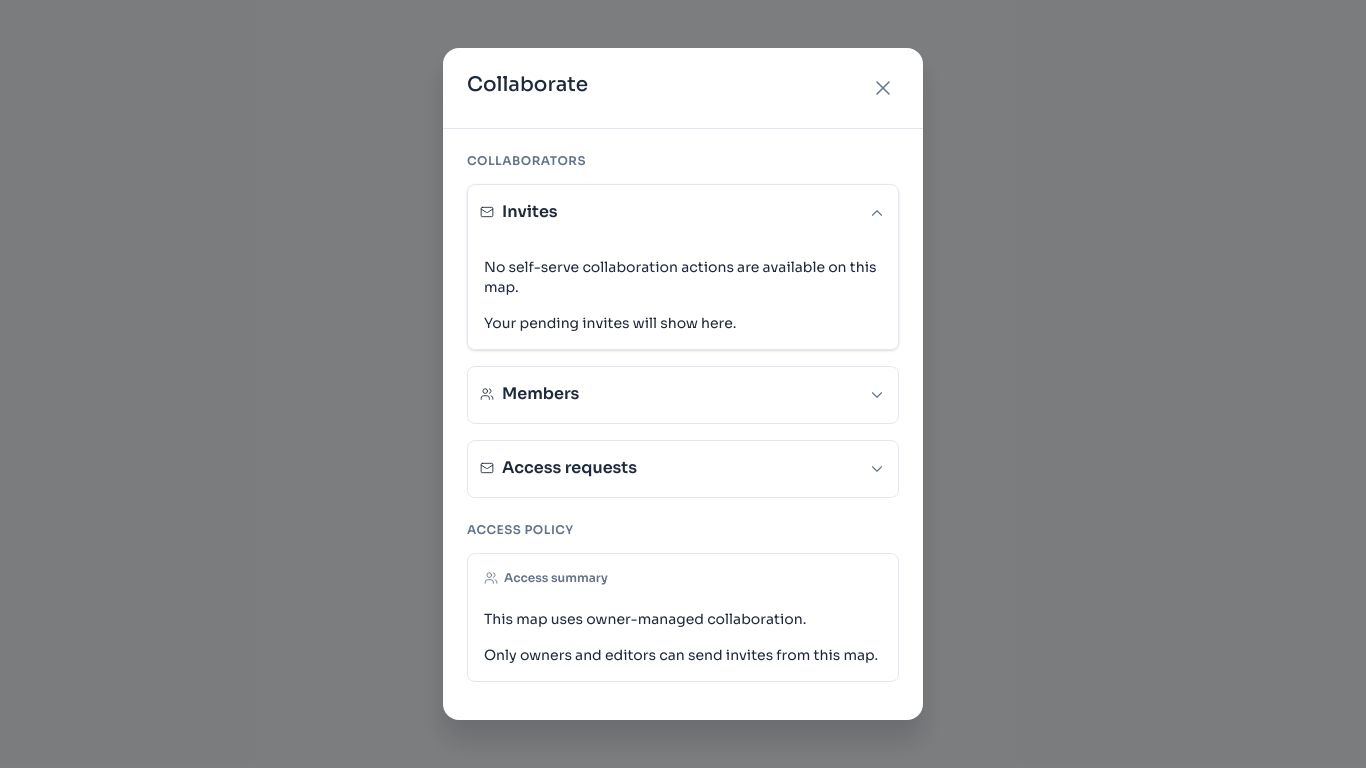
Test: ShareModal › shows member avatars without redundant owner or self badges
Click the button with class "ui-accordion__trigger" showing "Members".
click(541, 394)  # box [468,367,898,423]
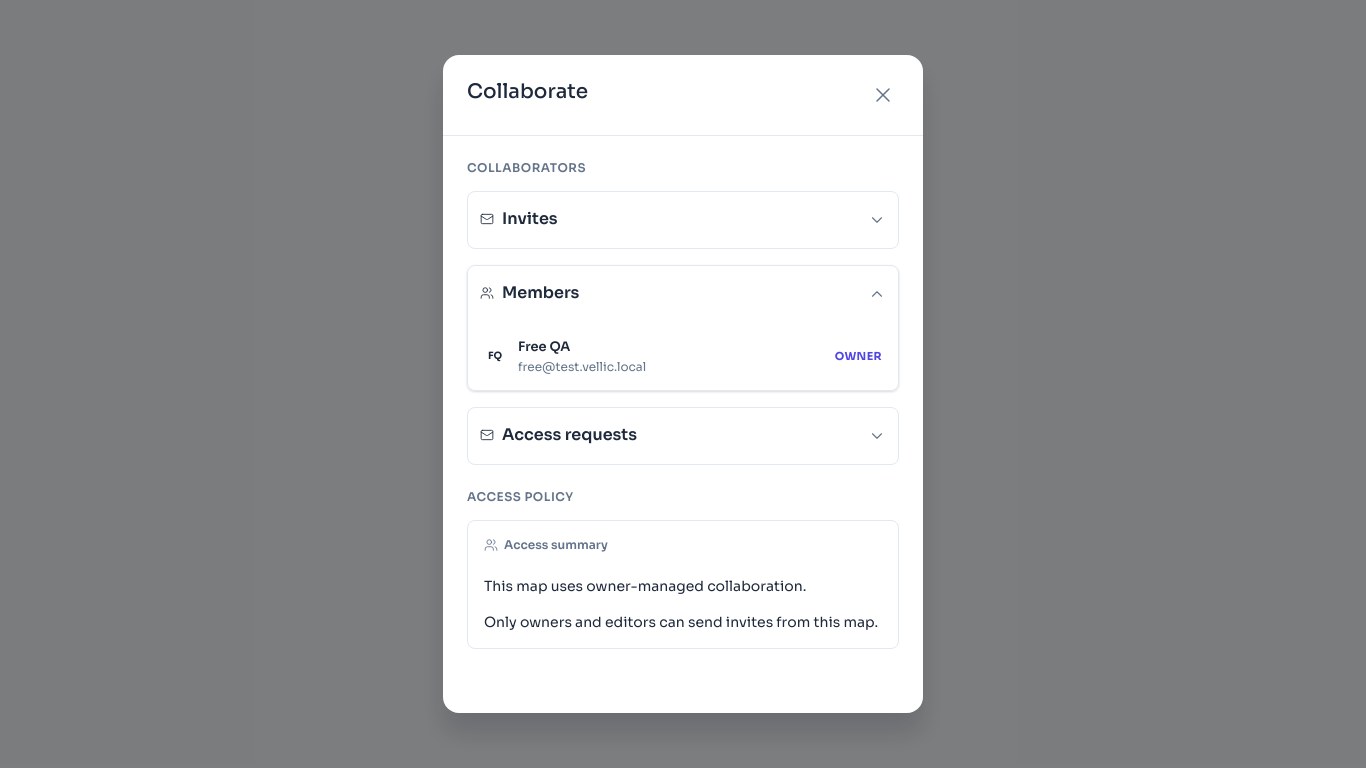
Now the element with class "share-collab-avatar" is shown, box [488,349,502,362]
Now the text "Free QA" is shown, box [518,338,570,355]
Now the text "free@test.vellic.local" is shown, box [518,359,646,374]
